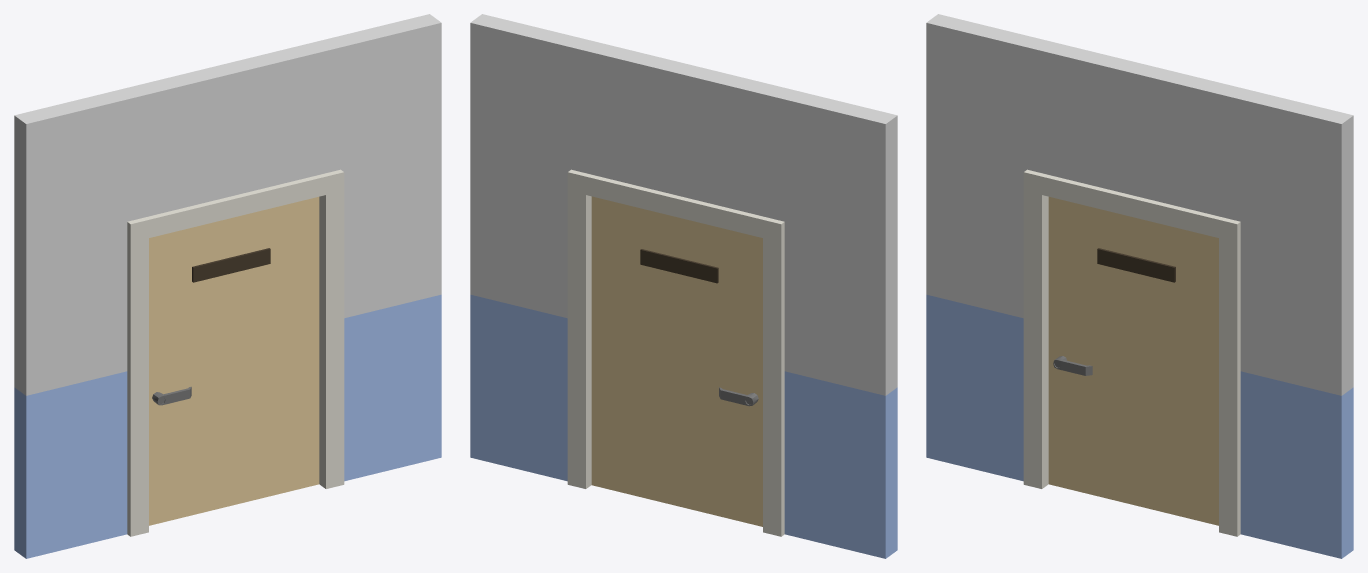
File: Wall_DoorwayV2.fbx
3 renders of one model, left to right at view 1: azimuth 30°, elevation 25°; view 2: azimuth 150°, elevation 25°; view 3: azimuth 330°, elevation 25°, orthographic.
Visible parts, largest first — view 1: Wall_DoorwayV2, Door; view 2: Wall_DoorwayV2, Door; view 3: Wall_DoorwayV2, Door.
Part boxes in pixels (x1=…): Wall_DoorwayV2: x1=14, y1=14, x2=441, y2=558; Door: x1=149, y1=196, x2=319, y2=525; Wall_DoorwayV2: x1=470, y1=14, x2=897, y2=558; Door: x1=591, y1=196, x2=762, y2=526; Wall_DoorwayV2: x1=926, y1=14, x2=1353, y2=558; Door: x1=1048, y1=196, x2=1218, y2=525.
Size of the model in its own units: 4 by 4 by 0.3151.
